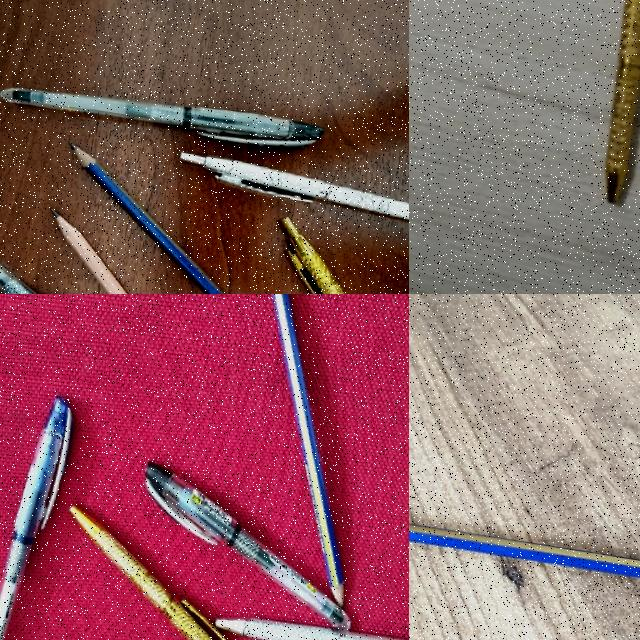pen: (128, 461, 360, 627), (2, 74, 322, 154), (0, 387, 75, 640), (0, 191, 154, 294), (409, 524, 639, 578)
pencil: (72, 146, 225, 294), (271, 294, 342, 605), (54, 210, 128, 294)
signature pen: (71, 507, 226, 640), (180, 150, 409, 233), (251, 219, 409, 294), (205, 604, 409, 640), (605, 0, 640, 203)
